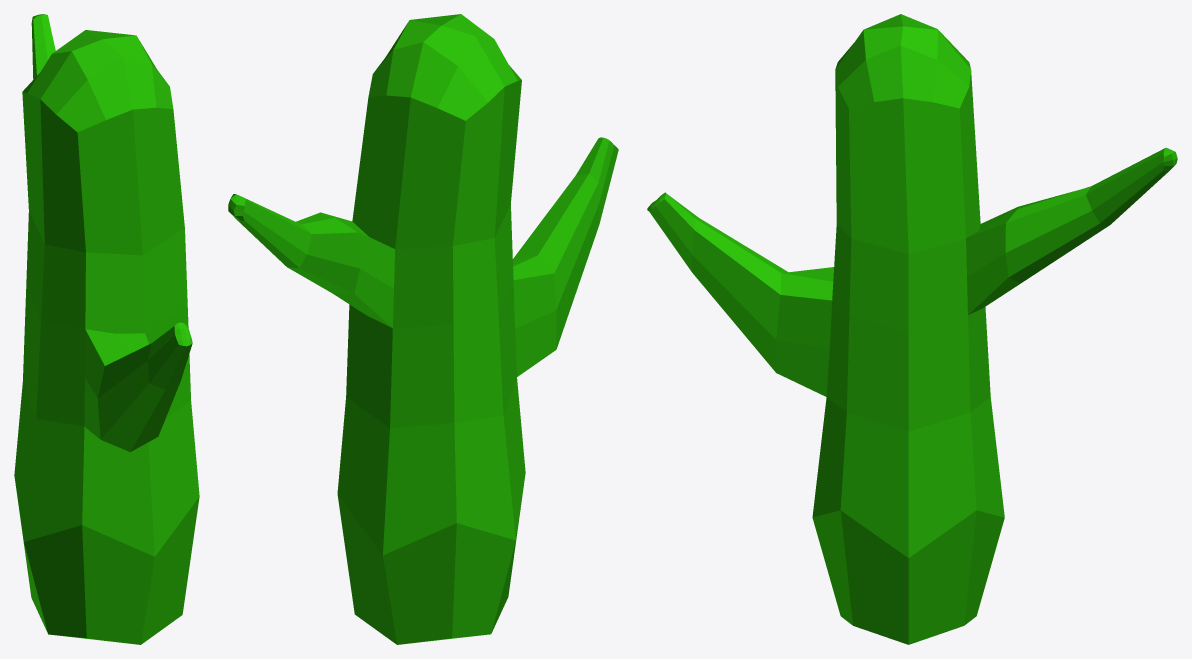
Rendered from cactus.gltf.
3 renders of one model, left to right at view 1: azimuth 30°, elevation 25°; view 2: azimuth 150°, elevation 25°; view 3: azimuth 270°, elevation 25°, orthographic.
Parts seen in each view (by area): view 1: Cube; view 2: Cube; view 3: Cube.
Part boxes in pixels (bbox=[...]): Cube: bbox=[14, 14, 199, 644]; Cube: bbox=[228, 14, 618, 644]; Cube: bbox=[647, 14, 1177, 644].
Bounding box in the file's own units: 3.46 × 11.66 × 9.55.
